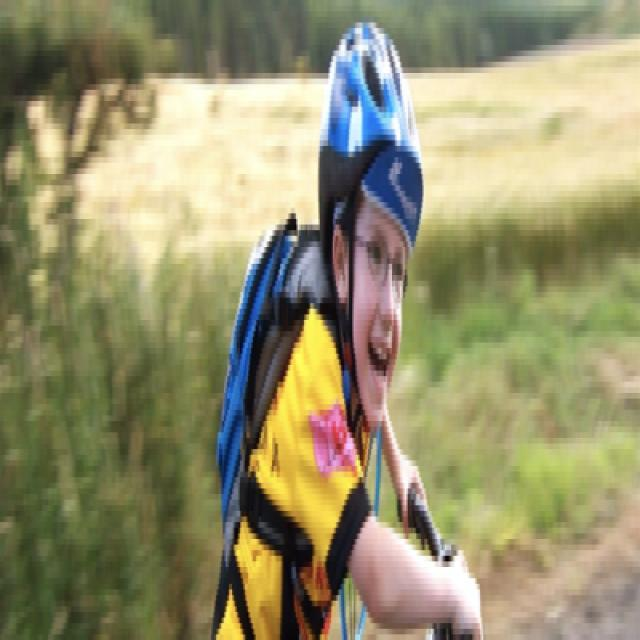Helmet: (316, 17, 426, 438)
